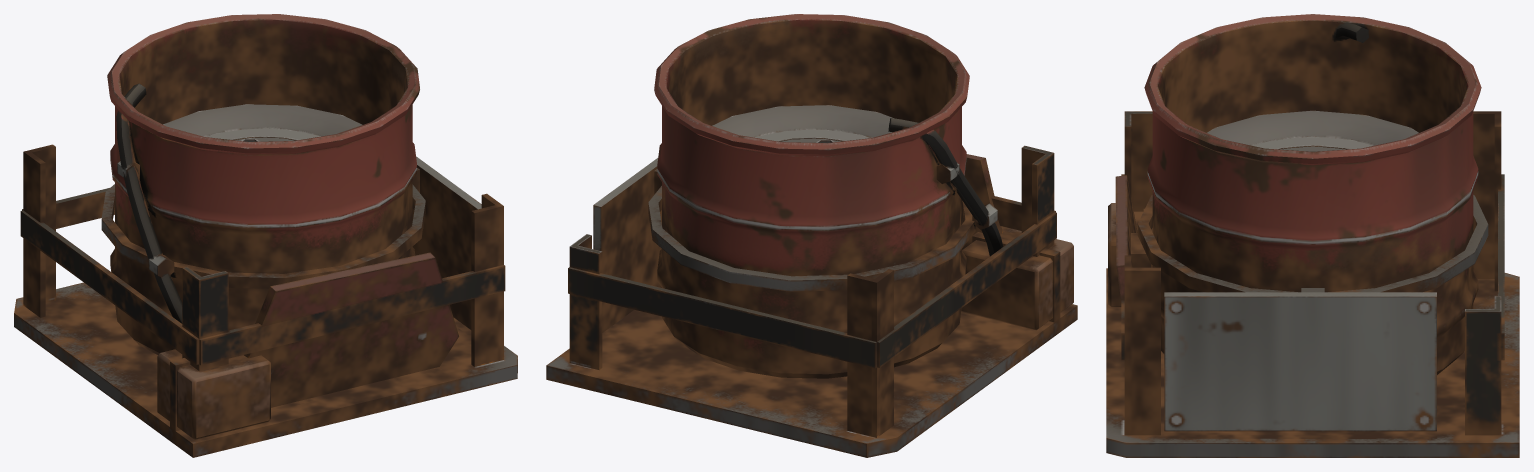
Rendered from R4X_FlyingDroneDeployer.glb.
The picture shows the model from 3 angles, left to right: view 1: azimuth 30°, elevation 25°; view 2: azimuth 150°, elevation 25°; view 3: azimuth 270°, elevation 25°; orthographic projection. The views are drawn at different scales.
Visible parts, largest first — view 1: R4X_FlyingDroneDeployer_Body, R4X_FlyingDroneDeployer_Iris; view 2: R4X_FlyingDroneDeployer_Body, R4X_FlyingDroneDeployer_Iris; view 3: R4X_FlyingDroneDeployer_Body, R4X_FlyingDroneDeployer_Iris.
Boxes of the visible parts, x1,y1,x2,y2 form: R4X_FlyingDroneDeployer_Body: [14, 14, 517, 457]; R4X_FlyingDroneDeployer_Iris: [163, 104, 362, 141]; R4X_FlyingDroneDeployer_Body: [546, 14, 1077, 457]; R4X_FlyingDroneDeployer_Iris: [712, 105, 893, 142]; R4X_FlyingDroneDeployer_Body: [1106, 14, 1519, 457]; R4X_FlyingDroneDeployer_Iris: [1207, 110, 1418, 151].
Bounding box in the file's own units: 0.5 × 0.3879 × 0.5.
1 material, 1 textured.
